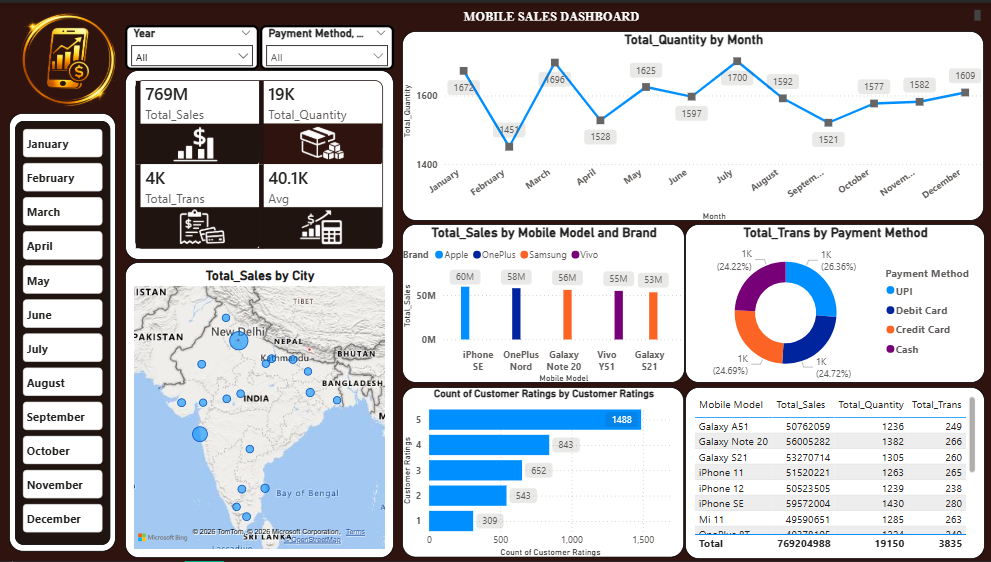

What the dashboard file says about the page in this screenshot:
{"tool":"powerbi","page":{"name":"Mobile Sales Dashboard","canvas":[1280,720],"ordinal":0},"visuals":[{"type":"shape","box":[12.2,142.2,137.8,565.6],"z":1000},{"type":"advancedSlicerVisual","fields":{"Values":["Mobile Sales Data.Date.Variation.Date Hierarchy.Month"]},"box":[18.9,152.2,123.3,546.7],"z":2000},{"type":"actionButton","box":[0,0,100,40],"z":3000},{"type":"cardVisual","fields":{"Data":["Mobile Sales Data.Total_Sales","Mobile Sales Data.Total_Quantity","Mobile Sales Data.Total_Trans","Mobile Sales Data.Avg"]},"box":[161.7,86,346.7,245],"z":4000},{"type":"map","fields":{"Category":["Mobile Sales Data.City"],"Size":["Mobile Sales Data.Total_Sales"]},"box":[161.7,334,346.7,381.7],"z":5000},{"type":"lineChart","fields":{"Y":["Mobile Sales Data.Total_Quantity"],"Category":["Mobile Sales Data.Date.Variation.Date Hierarchy.Month","Mobile Sales Data.Date.Variation.Date Hierarchy.Day"]},"box":[518.8,36,751.2,245],"z":6000},{"type":"clusteredColumnChart","fields":{"Y":["Mobile Sales Data.Total_Sales"],"Category":["Mobile Sales Data.Mobile Model"],"Series":["Mobile Sales Data.Brand"]},"box":[518.3,285,365,205],"z":7000},{"type":"donutChart","fields":{"Category":["Mobile Sales Data.Payment Method"],"Y":["Mobile Sales Data.Total_Trans"]},"box":[883.3,285,386.7,205],"z":7001},{"type":"barChart","fields":{"Category":["Mobile Sales Data.Customer Ratings"],"Y":["CountNonNull(Mobile Sales Data.Customer Ratings)"]},"box":[518.6,496,364.3,220],"z":7002},{"type":"tableEx","fields":{"Values":["Mobile Sales Data.Mobile Model","Mobile Sales Data.Total_Sales","Mobile Sales Data.Total_Quantity","Mobile Sales Data.Total_Trans"]},"box":[883.3,496,386.7,221.7],"z":7003},{"type":"slicer","fields":{"Values":["Mobile Sales Data.Date.Variation.Date Hierarchy.Year"]},"box":[161.7,28,173.3,58.3],"z":7004},{"type":"slicer","fields":{"Values":["Mobile Sales Data.Payment Method","Mobile Sales Data.Brand"]},"box":[335,28,173.3,58.3],"z":7005},{"type":"image","box":[11.4,0,150,142.9],"z":7006},{"type":"textbox","box":[161.2,3.8,1108.8,23.8],"z":7007}]}

Visuals, with their boxes in screenshot pixels (x1, y1, x2, y2), scaled from the page's 1280x720 canvas onto the 991x562 screenshot:
shape: [left=9, top=111, right=116, bottom=552]
advancedSlicerVisual - Mobile Sales Data.Date.Variation.Date Hierarchy.Month: [left=15, top=119, right=110, bottom=546]
actionButton: [left=0, top=0, right=77, bottom=31]
cardVisual - Mobile Sales Data.Total_Sales x Mobile Sales Data.Total_Quantity: [left=125, top=67, right=394, bottom=258]
map - Mobile Sales Data.City x Mobile Sales Data.Total_Sales: [left=125, top=261, right=394, bottom=559]
lineChart - Mobile Sales Data.Total_Quantity x Mobile Sales Data.Date.Variation.Date Hierarchy.Month: [left=402, top=28, right=983, bottom=219]
clusteredColumnChart - Mobile Sales Data.Total_Sales x Mobile Sales Data.Mobile Model: [left=401, top=222, right=684, bottom=382]
donutChart - Mobile Sales Data.Payment Method x Mobile Sales Data.Total_Trans: [left=684, top=222, right=983, bottom=382]
barChart - Mobile Sales Data.Customer Ratings x CountNonNull(Mobile Sales Data.Customer Ratings): [left=402, top=387, right=684, bottom=559]
tableEx - Mobile Sales Data.Mobile Model x Mobile Sales Data.Total_Sales: [left=684, top=387, right=983, bottom=560]
slicer - Mobile Sales Data.Date.Variation.Date Hierarchy.Year: [left=125, top=22, right=259, bottom=67]
slicer - Mobile Sales Data.Payment Method x Mobile Sales Data.Brand: [left=259, top=22, right=394, bottom=67]
image: [left=9, top=0, right=125, bottom=112]
textbox: [left=125, top=3, right=983, bottom=22]
